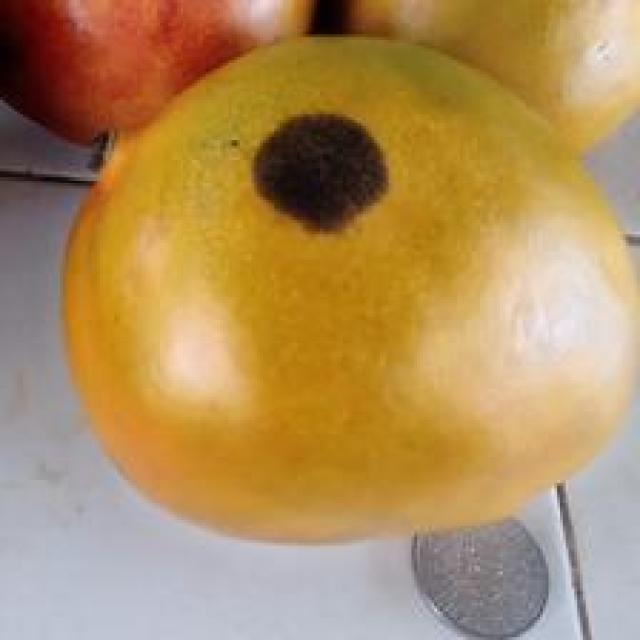Bad_Mango: (70, 40, 631, 538)
